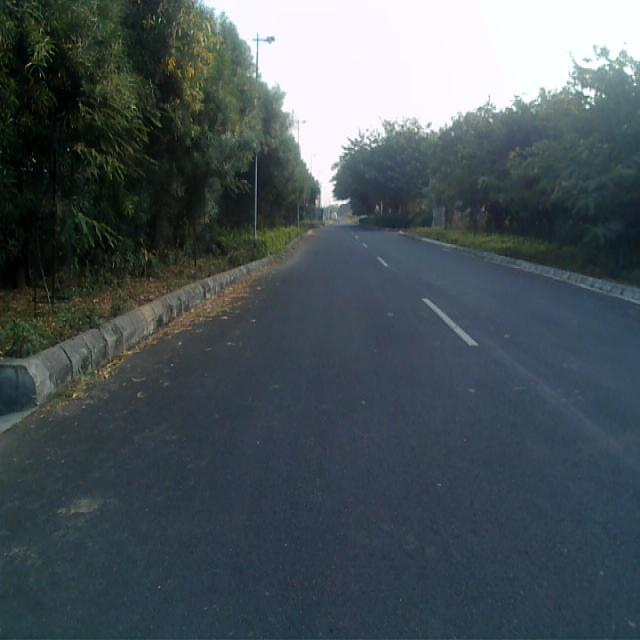lane: (0, 227, 640, 640)
